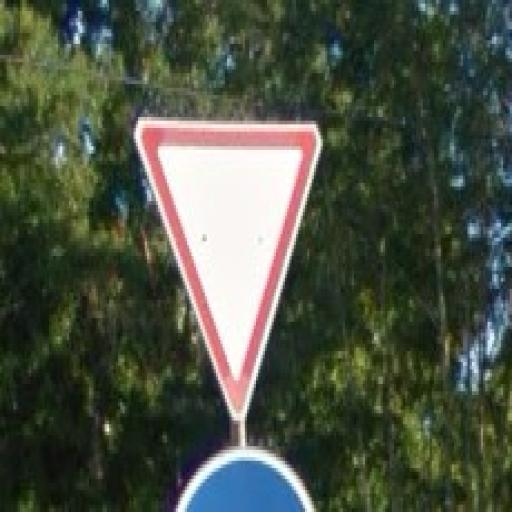traffic_sign: (135, 114, 326, 429)
